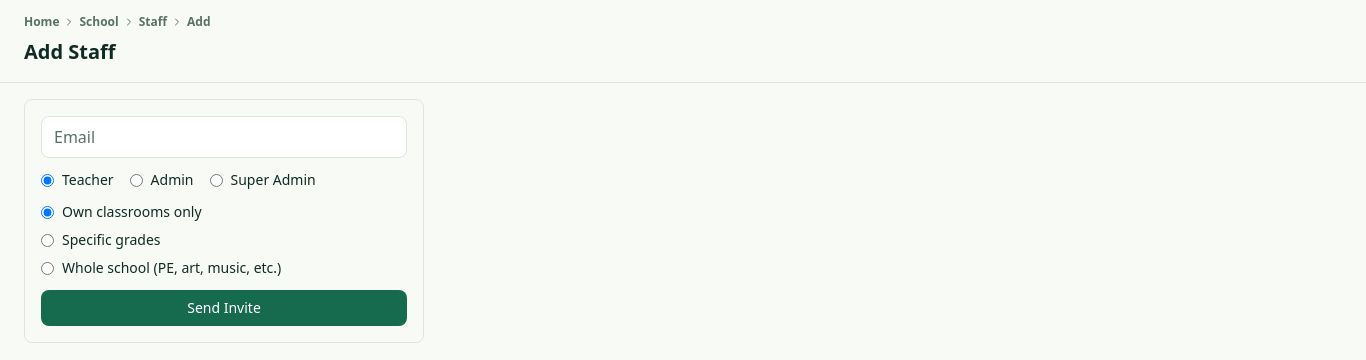
it: AddStaffPage › hides the scope picker once an admin role is selected
This screenshot has width=1366, height=360.
Click the text "Super Admin".
click(263, 180)  # box [210,170,316,190]
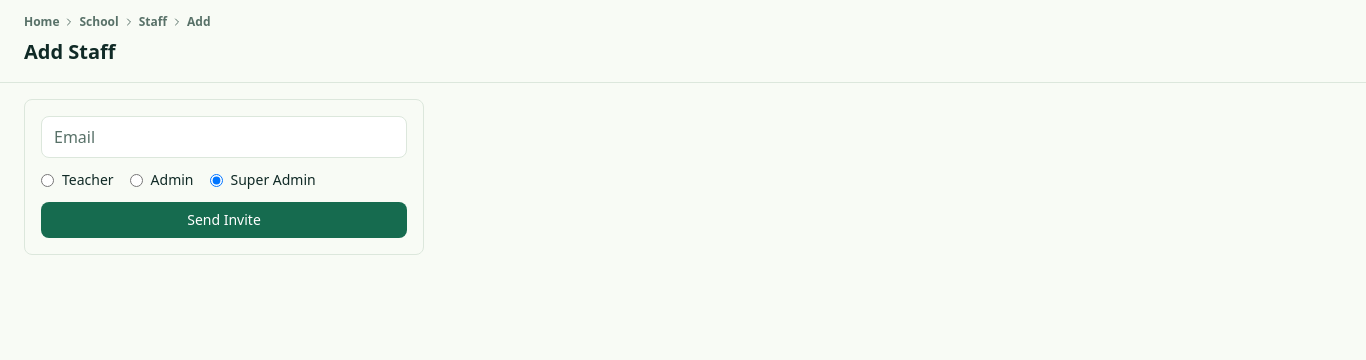
Expected: the text "Own classrooms only" is gone
